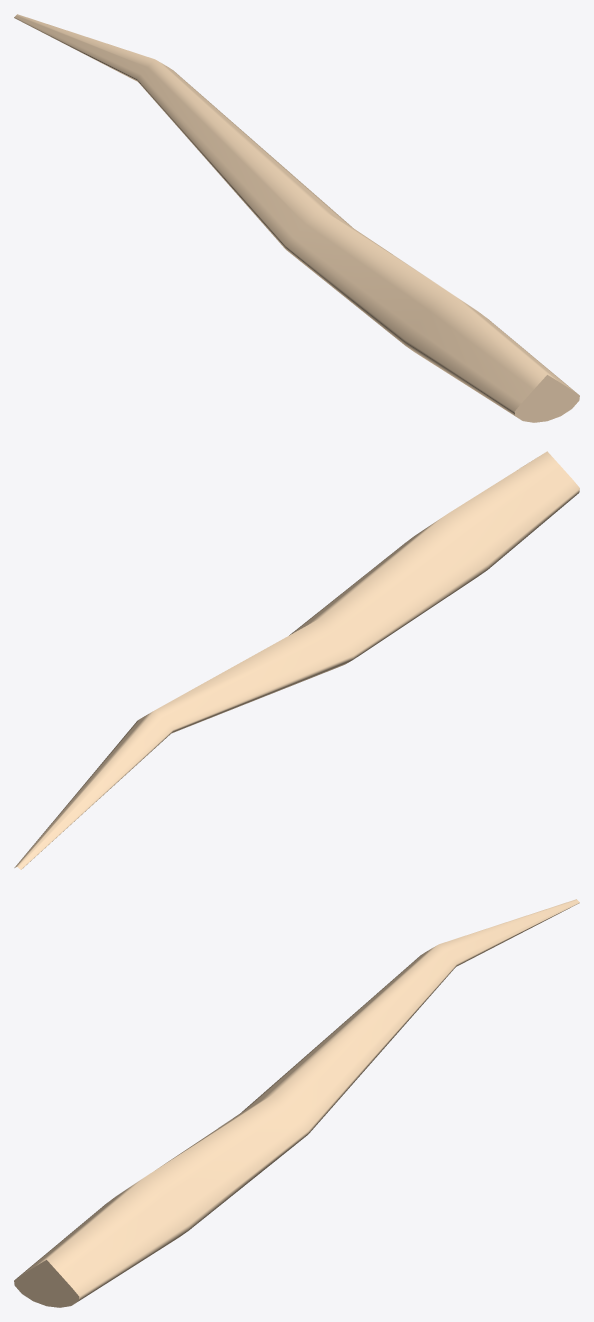
File: bug_quill.glb
3 renders of one model, top to bottom at view 1: azimuth 30°, elevation 25°; view 2: azimuth 150°, elevation 25°; view 3: azimuth 330°, elevation 25°, orthographic.
Parts seen in each view (by area): view 1: bug_quill; view 2: bug_quill; view 3: bug_quill.
Part boxes in pixels (left/top/right/bottom): bug_quill: left=14, top=14, right=579, bottom=422; bug_quill: left=14, top=451, right=579, bottom=869; bug_quill: left=14, top=899, right=579, bottom=1307.
Bounding box in the file's own units: 0.0474 × 0.0437 × 0.5202.
